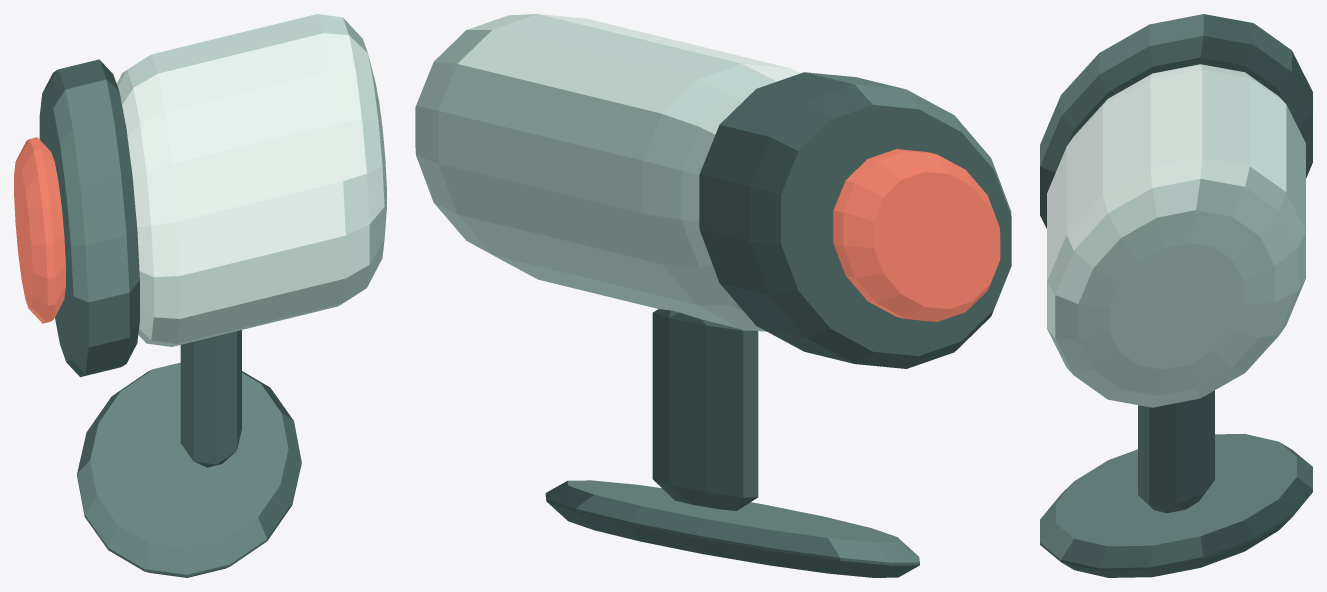
The model's file is Laser_Left.gltf.
3 views of the same model, side by side, from view 1: azimuth 30°, elevation 25°; view 2: azimuth 150°, elevation 25°; view 3: azimuth 270°, elevation 25° (orthographic). The views are drawn at different scales.
Parts seen in each view (by area): view 1: Laser_Left_baked; view 2: Laser_Left_baked; view 3: Laser_Left_baked.
Boxes of the visible parts, left/top/right/bottom form: Laser_Left_baked: left=14, top=14, right=386, bottom=577; Laser_Left_baked: left=415, top=14, right=1011, bottom=577; Laser_Left_baked: left=1040, top=14, right=1312, bottom=577.
Size of the model in its own units: 0.7224 by 0.781 by 0.3923.
